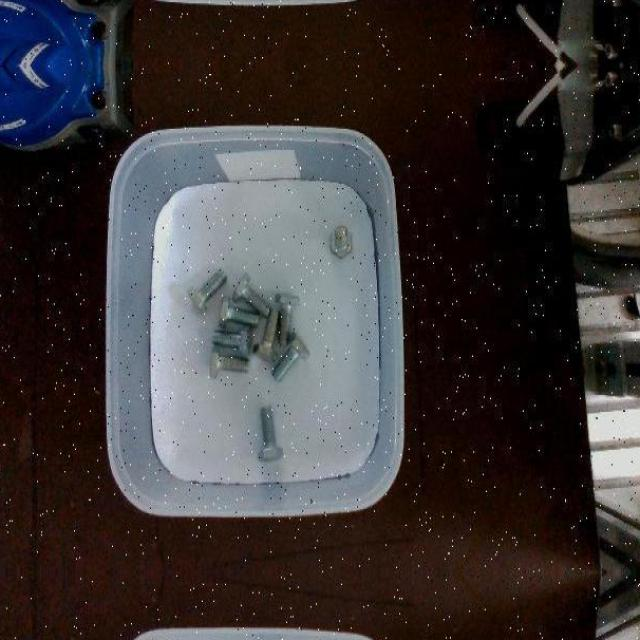screw: (272, 330, 310, 383), (188, 268, 228, 316), (232, 272, 272, 318), (253, 307, 281, 361), (210, 323, 252, 357), (259, 404, 284, 461), (209, 344, 250, 378), (276, 292, 301, 346), (218, 296, 258, 328), (330, 225, 352, 259)
